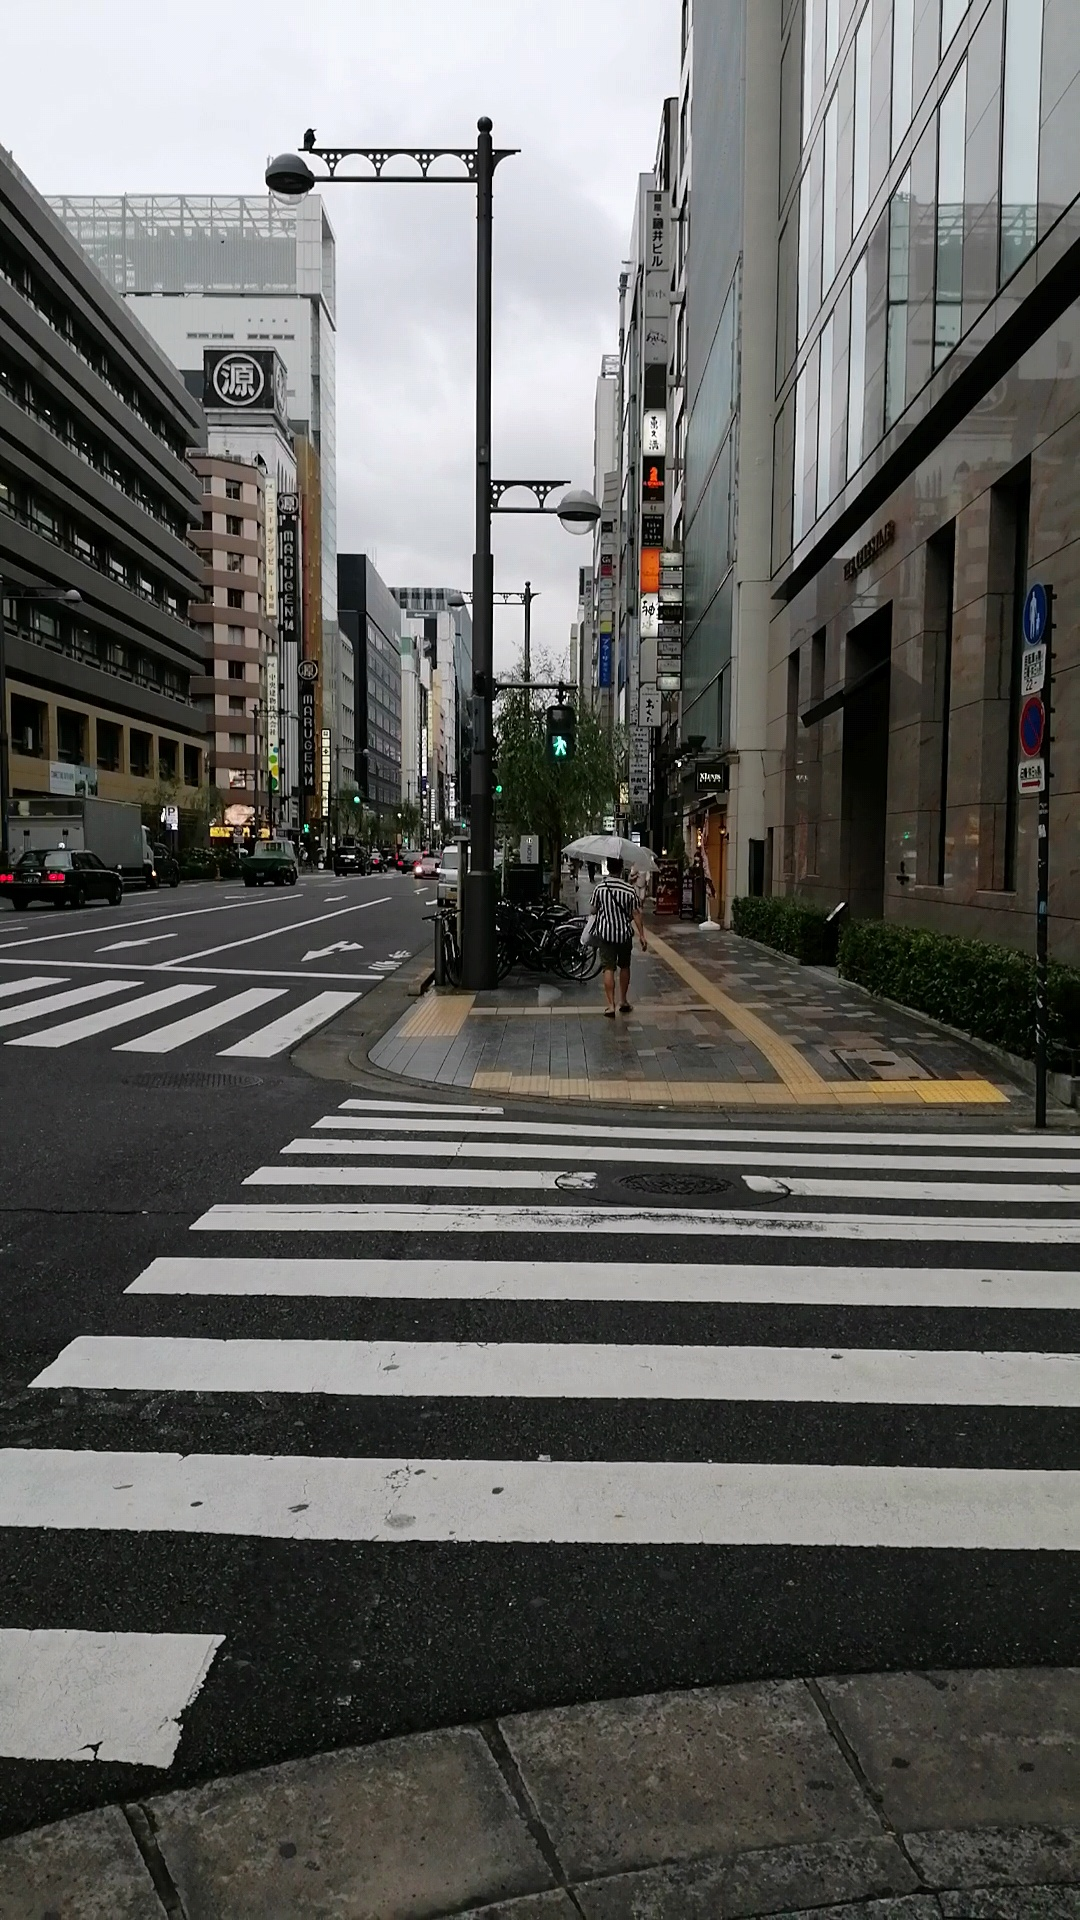green: (545, 705, 574, 764)
